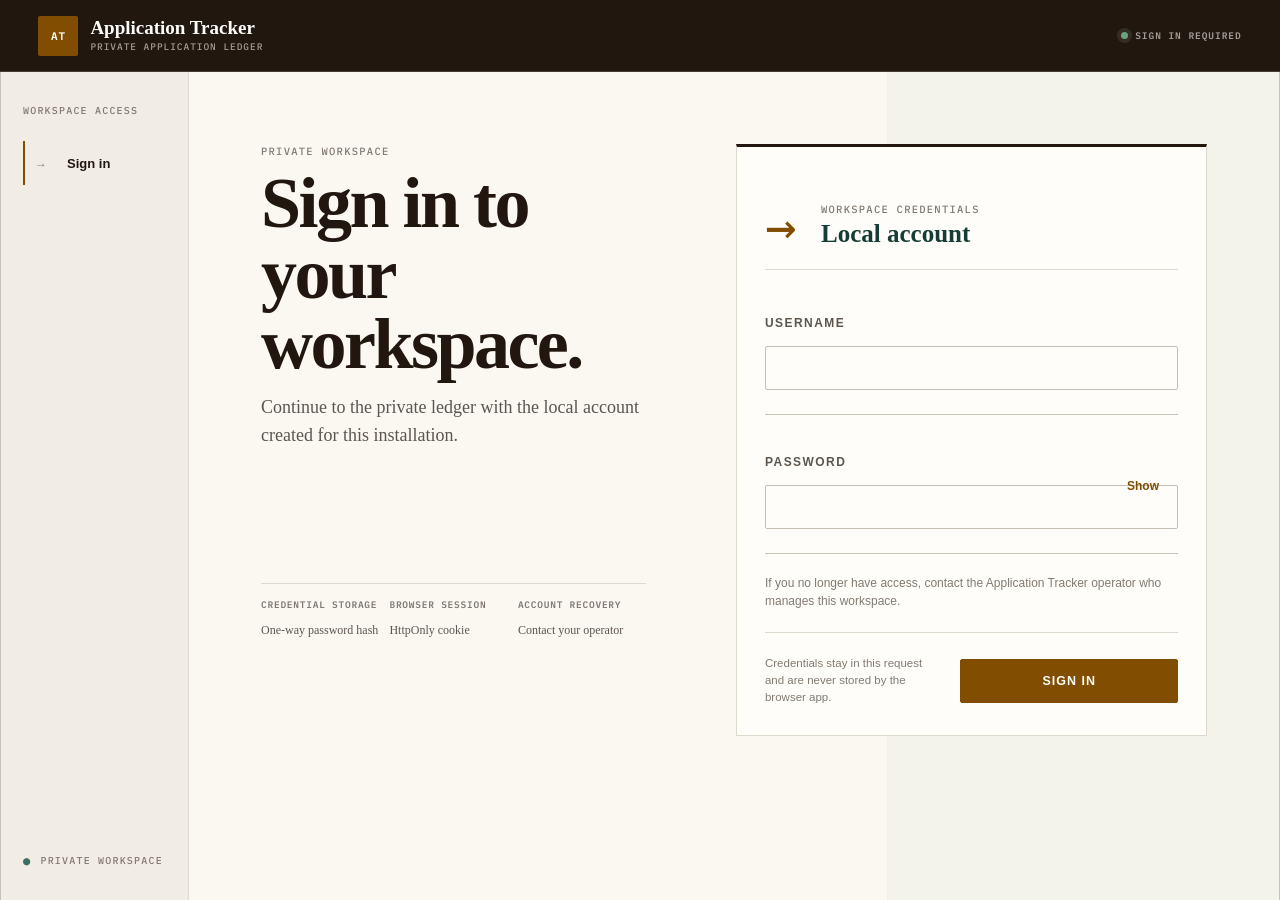
it: application shell › authenticates a deep link before opening its protected section
Expected: the heading "Sign in to your workspace." is shown, [261, 163, 582, 384]
Type "alex" into the field labelled "Username". click: point(972, 368)
box: [765, 346, 1178, 390]
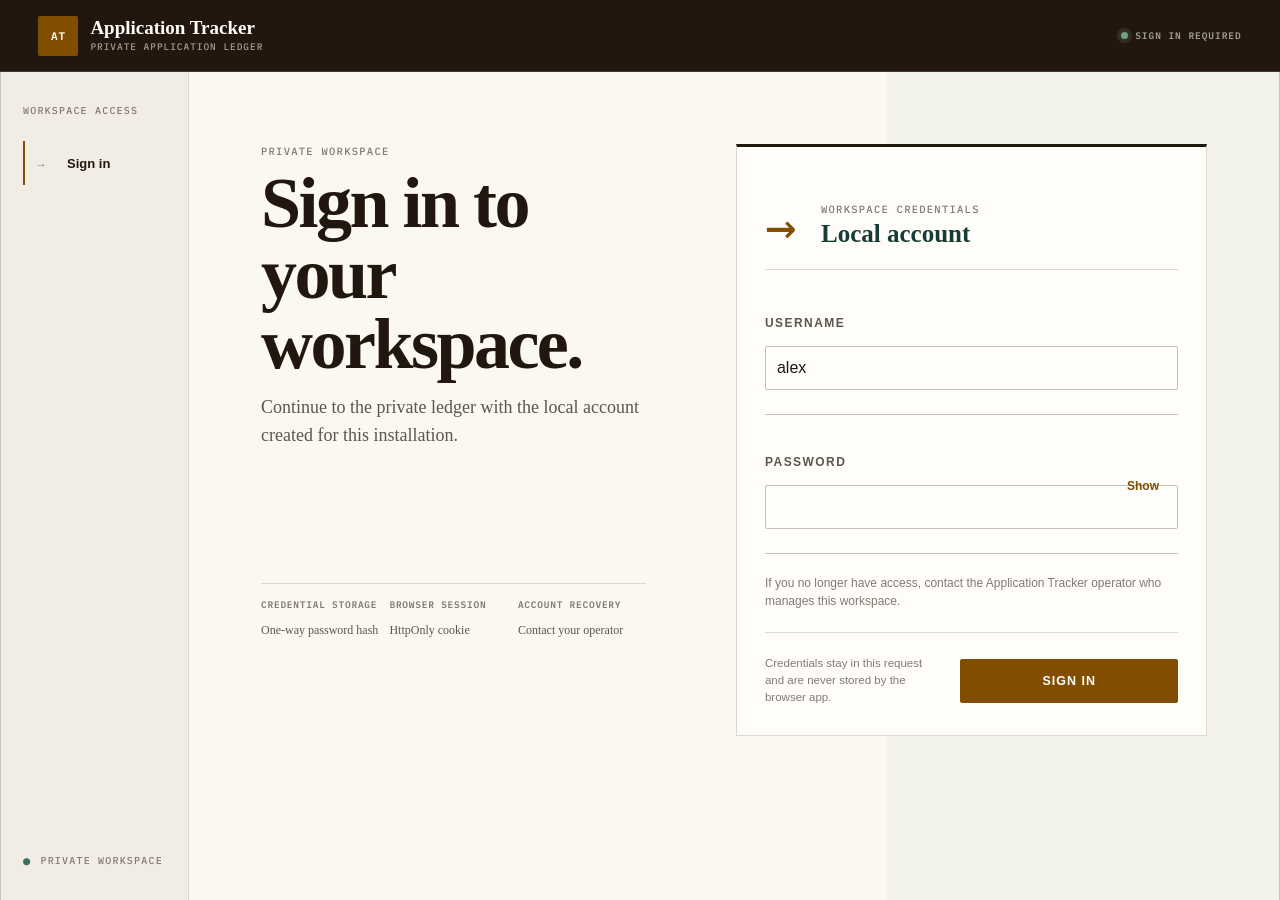
Type "correct horse battery staple" into the password field labelled "Password". click: point(972, 507)
box: [765, 485, 1178, 529]
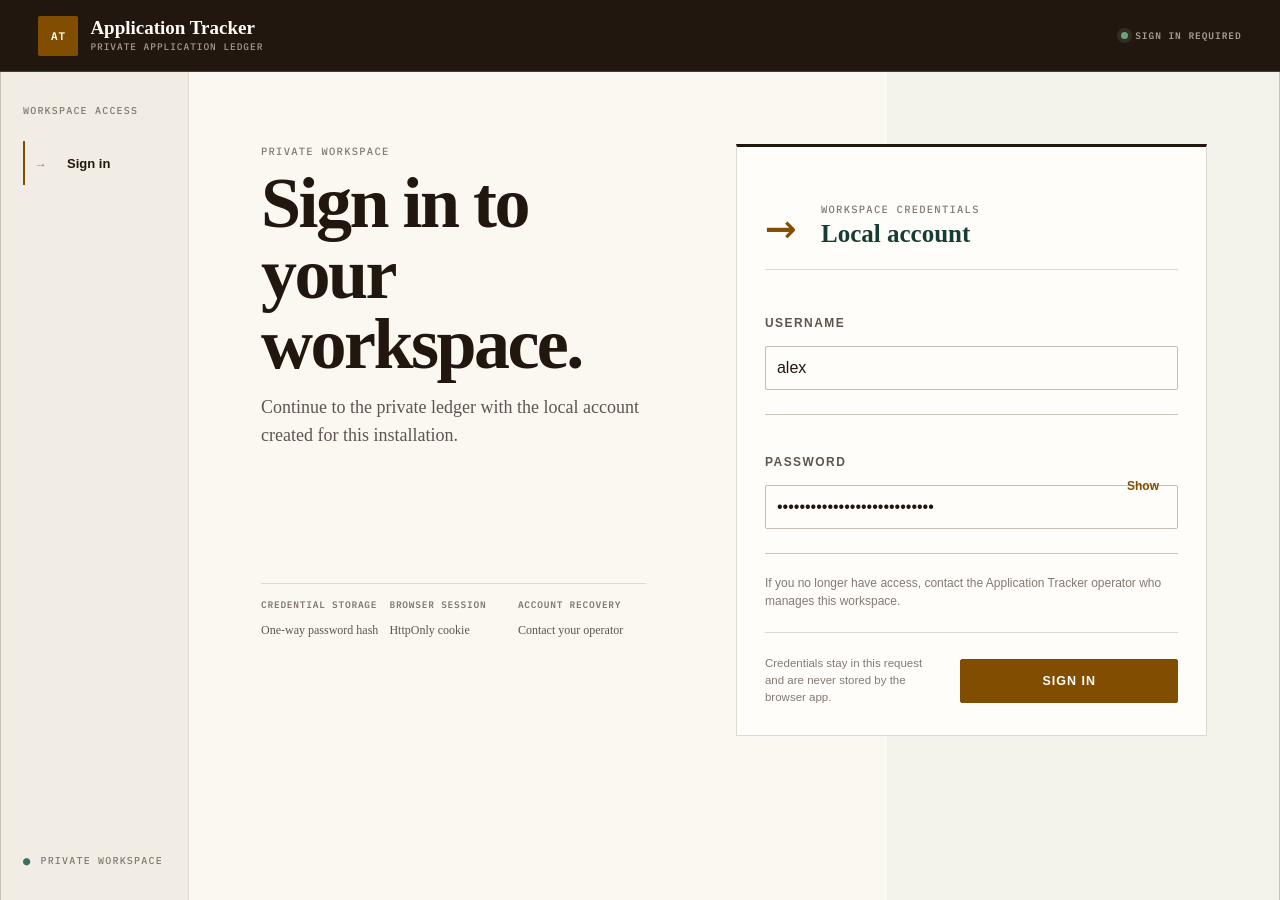
Click the button "Sign in". click: point(1069, 681)
box: [960, 659, 1178, 703]
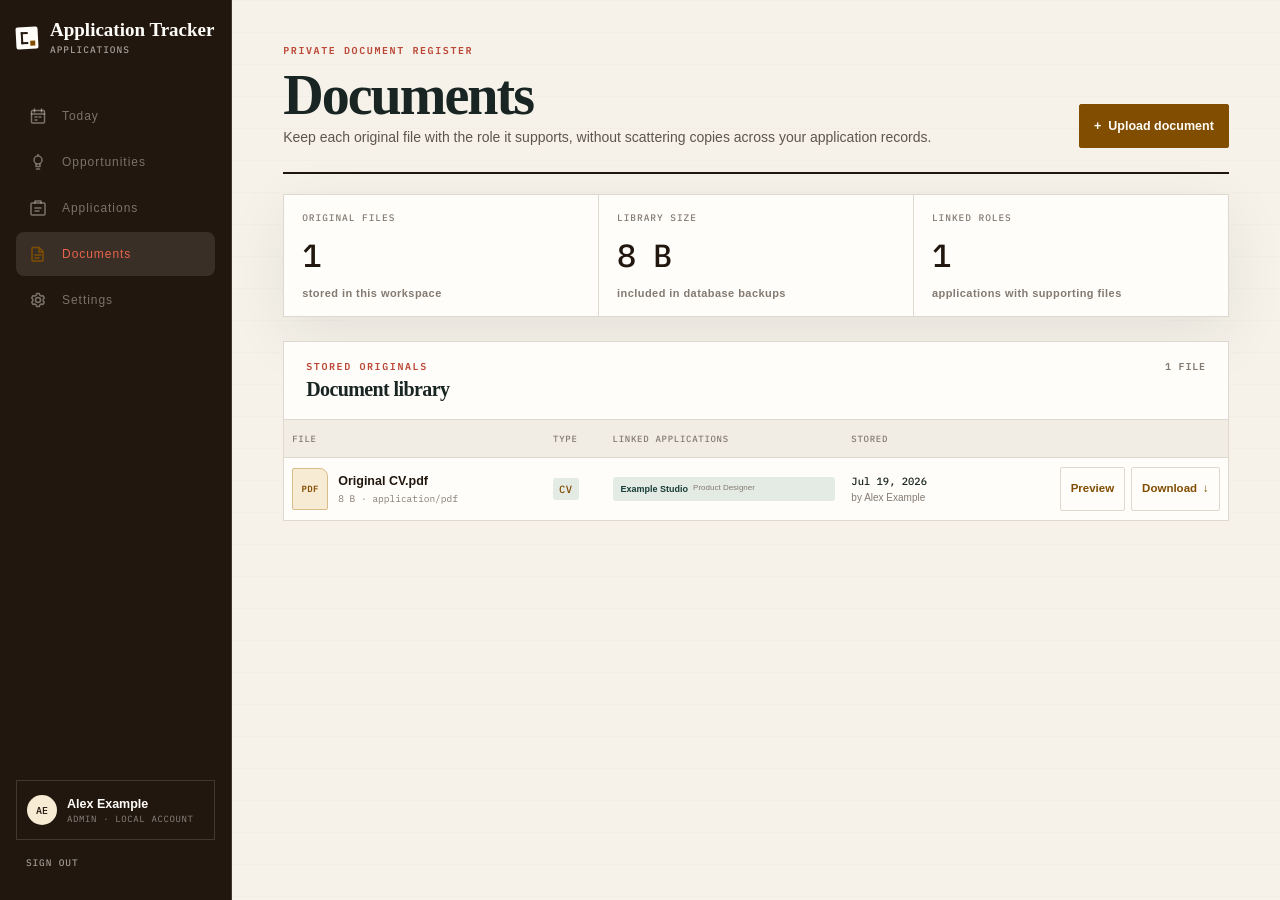
Expected: the heading "Documents" is shown, [283, 64, 533, 126]
